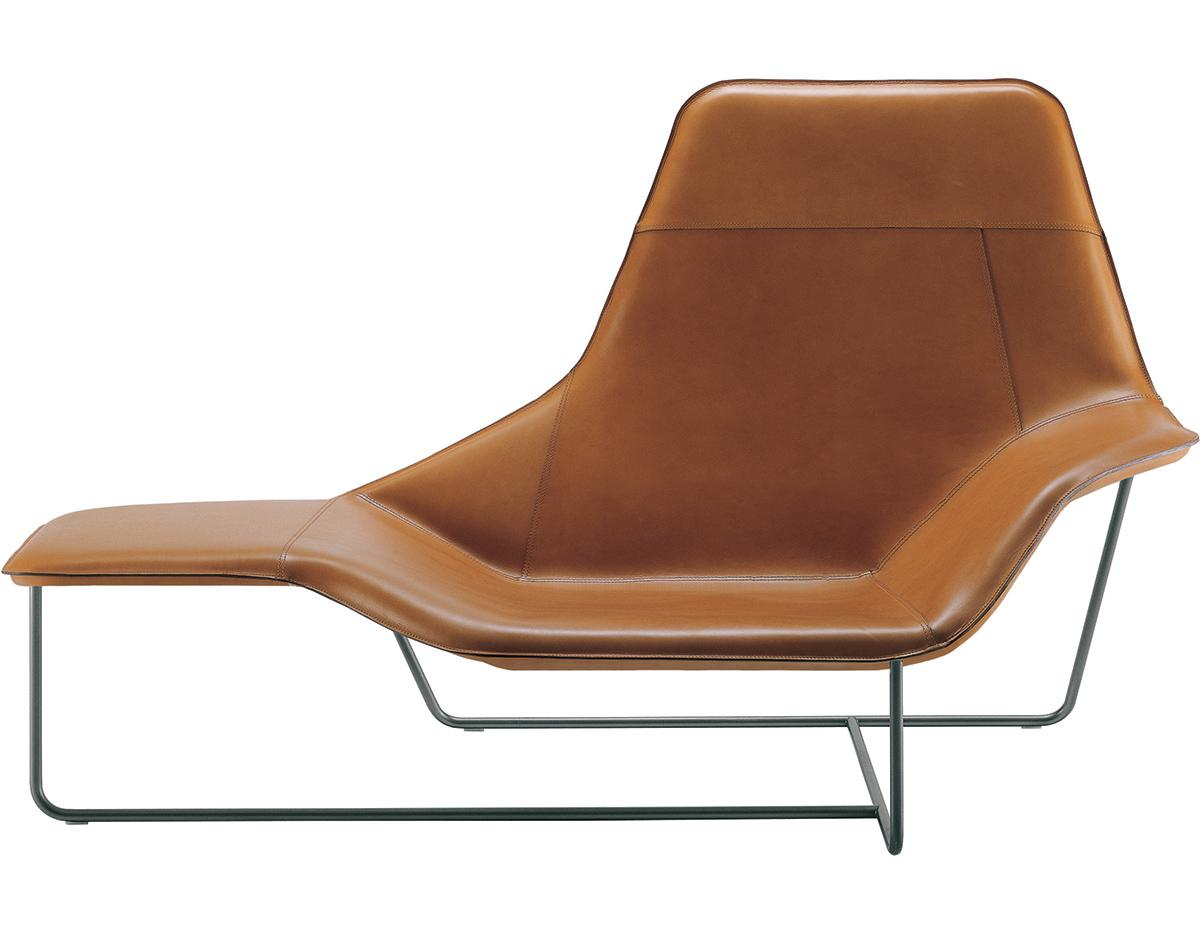chair: (1, 52, 1185, 913)
